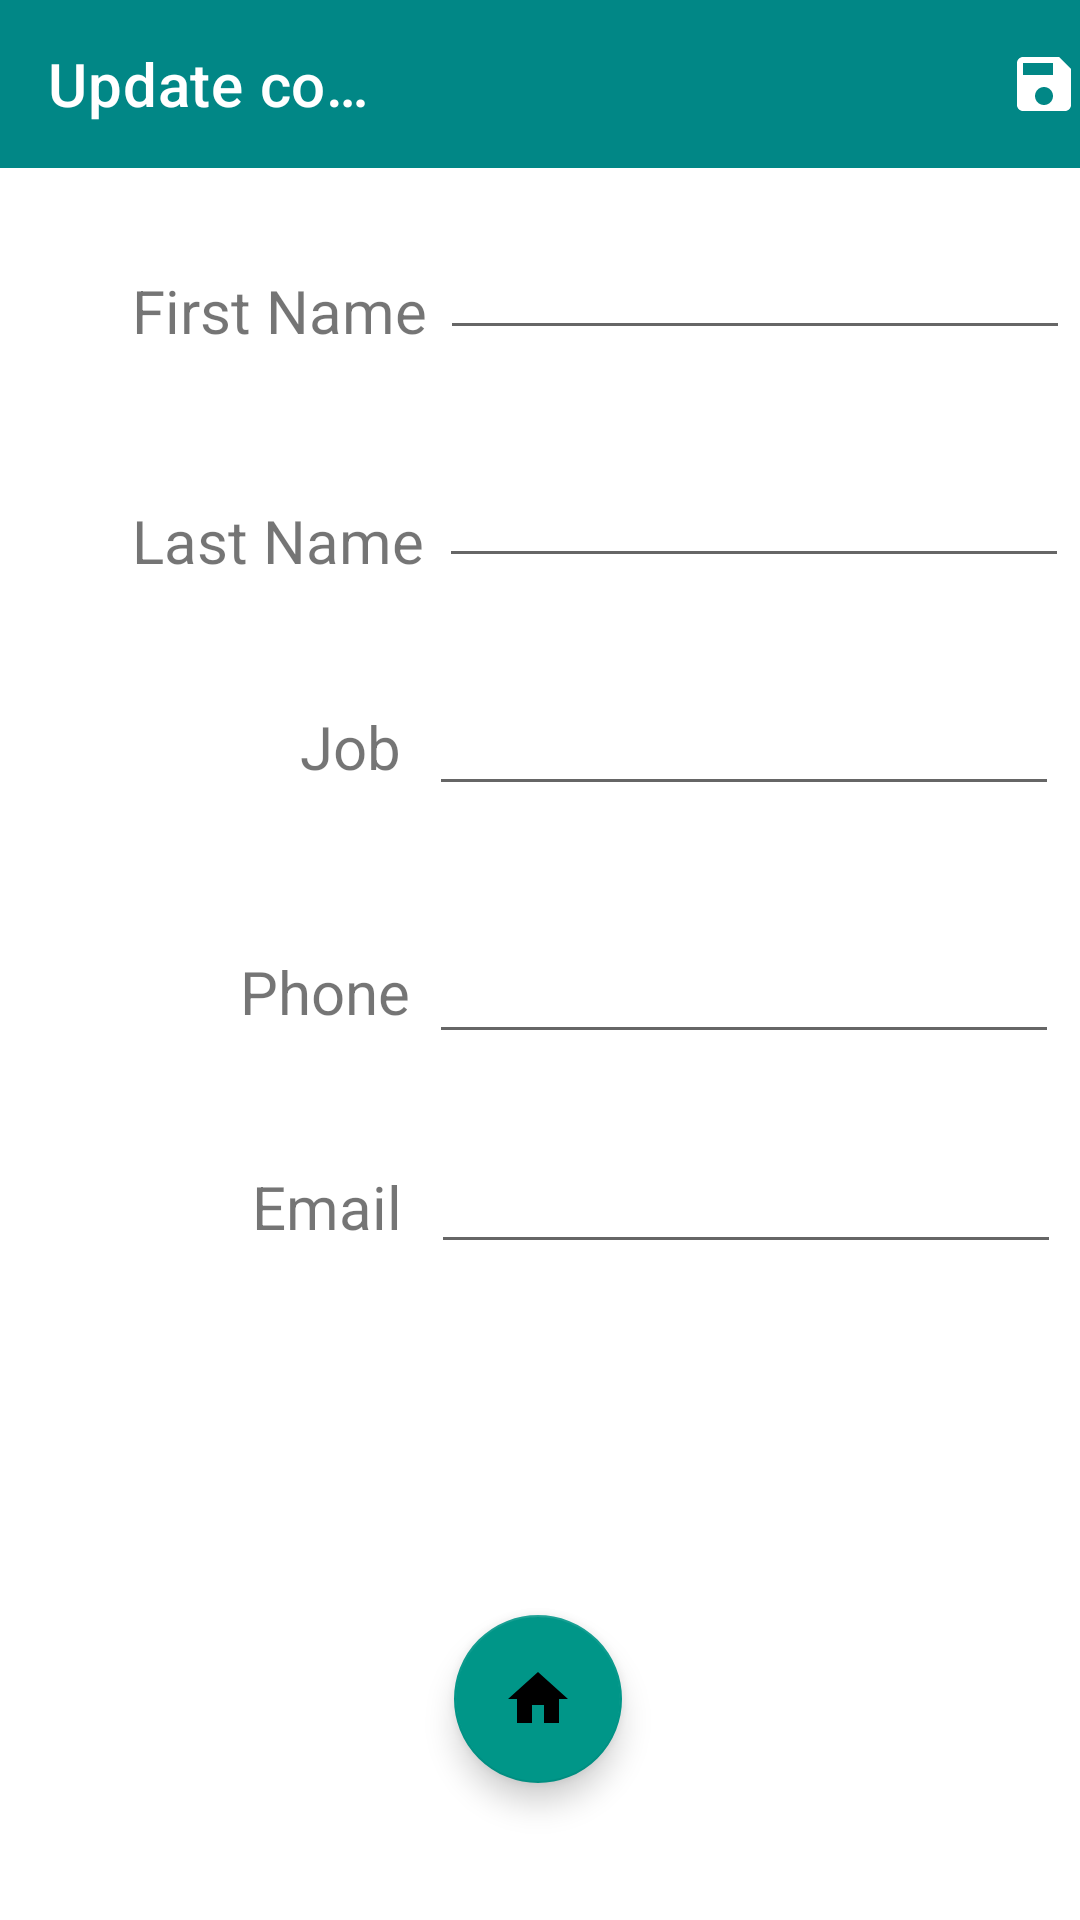

Named icons in this screenshot (1080×1920) and their bounding boxes, Rect(x1, y1, x2, y2):
home: Rect(454, 1615, 622, 1783)
save: Rect(1017, 57, 1071, 111)
